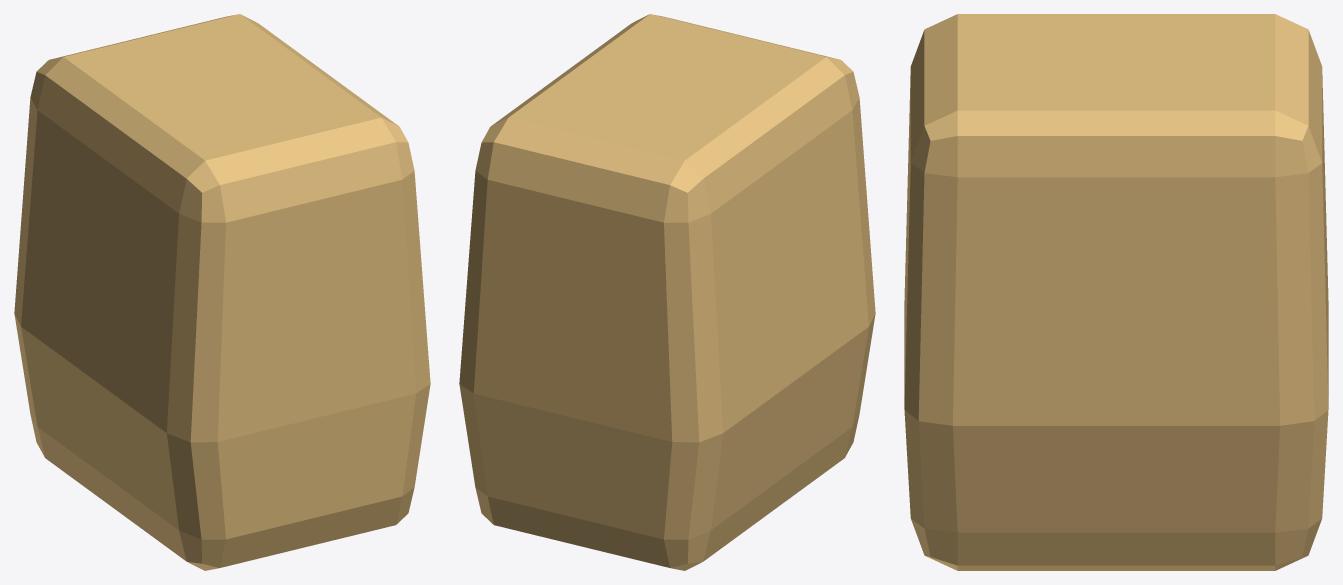
The model's file is flour.fbx.
The picture shows the model from 3 angles, left to right: view 1: azimuth 30°, elevation 25°; view 2: azimuth 150°, elevation 25°; view 3: azimuth 270°, elevation 25°; orthographic projection. The views are drawn at different scales.
Visible parts, largest first — view 1: Flour; view 2: Flour; view 3: Flour.
Part boxes in pixels (bbox=[...]): Flour: bbox=[14, 14, 430, 570]; Flour: bbox=[459, 14, 875, 570]; Flour: bbox=[904, 14, 1328, 570].
Size of the model in its own units: 196 by 299 by 249.
